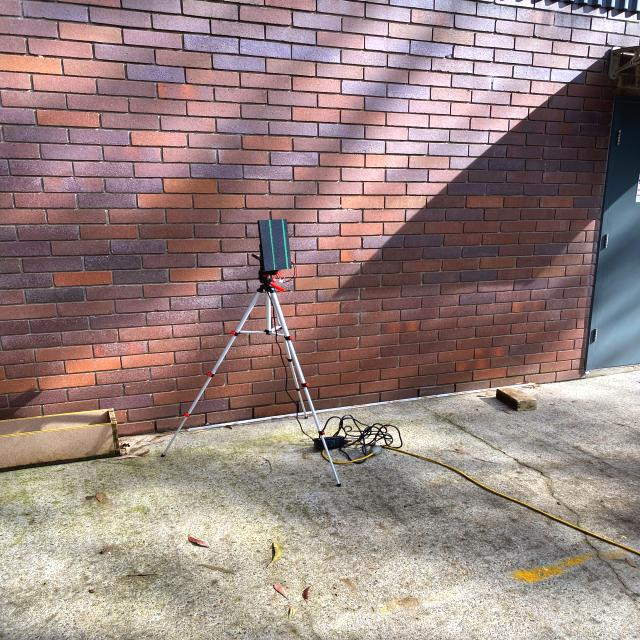matrix: (242, 213, 300, 281)
